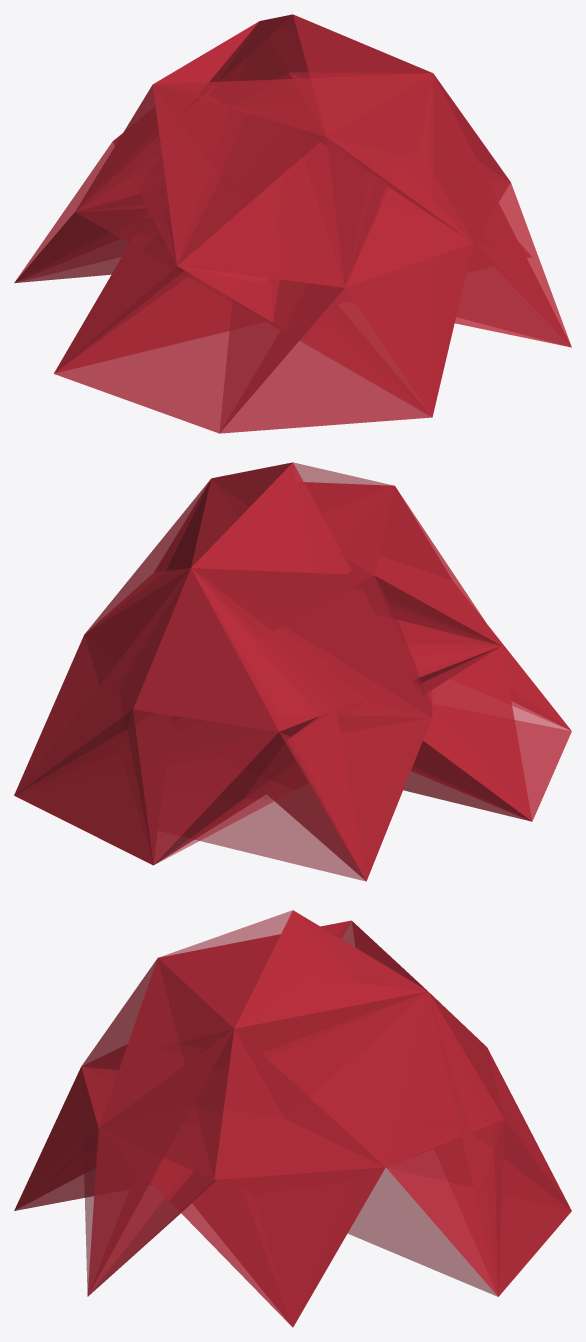
File: S.S._Dolphin_Bowsprit_8.obj
3 renders of one model, top to bottom at view 1: azimuth 30°, elevation 25°; view 2: azimuth 150°, elevation 25°; view 3: azimuth 270°, elevation 25°, orthographic.
Parts seen in each view (by area): view 1: S.S._Dolphin_Bowsprit_8; view 2: S.S._Dolphin_Bowsprit_8; view 3: S.S._Dolphin_Bowsprit_8.
Part boxes in pixels (x1=…): S.S._Dolphin_Bowsprit_8: x1=14, y1=14, x2=571, y2=433; S.S._Dolphin_Bowsprit_8: x1=14, y1=462, x2=571, y2=881; S.S._Dolphin_Bowsprit_8: x1=14, y1=910, x2=571, y2=1327.
Bounding box in the file's own units: 1.67 × 1 × 1.69.
